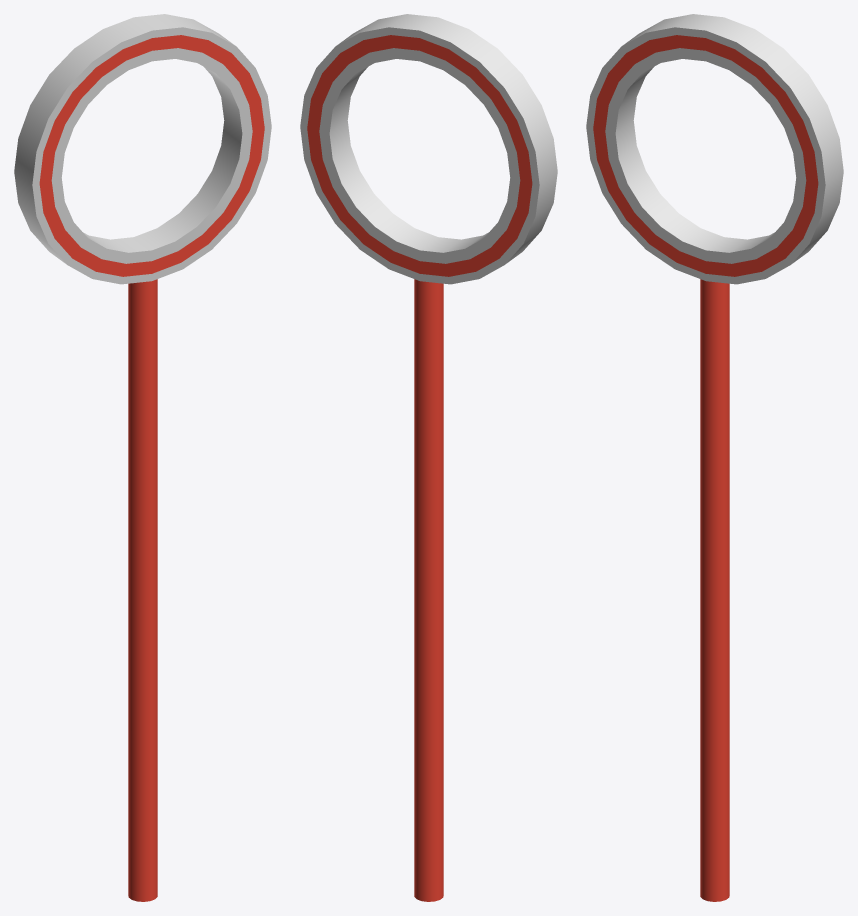
The model's file is Ring C.fbx.
The picture shows the model from 3 angles, left to right: view 1: azimuth 30°, elevation 25°; view 2: azimuth 150°, elevation 25°; view 3: azimuth 330°, elevation 25°; orthographic projection.
Parts seen in each view (by area): view 1: Ring C.001, Ring C; view 2: Ring C.001, Ring C; view 3: Ring C.001, Ring C.
Part boxes in pixels (left/top/right/bottom): Ring C.001: left=14, top=14, right=271, bottom=284; Ring C: left=128, top=279, right=157, bottom=901; Ring C.001: left=300, top=14, right=557, bottom=284; Ring C: left=414, top=279, right=443, bottom=901; Ring C.001: left=586, top=14, right=843, bottom=284; Ring C: left=700, top=279, right=729, bottom=901.
Size of the model in its own units: 154 by 535 by 20.45.
